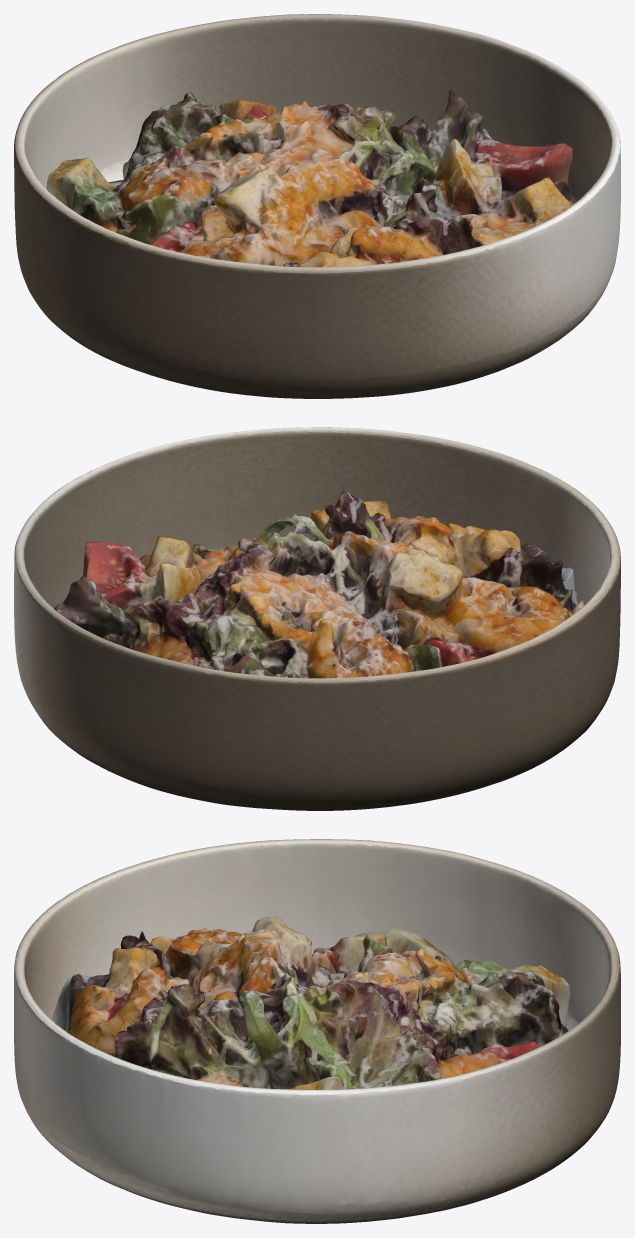
File: set.Caeser.shrimp.001.glb
The picture shows the model from 3 angles, top to bottom: view 1: azimuth 30°, elevation 25°; view 2: azimuth 150°, elevation 25°; view 3: azimuth 270°, elevation 25°; orthographic projection.
Visible parts, largest first — view 1: /Root/Scenes/Scene/Object_246/Object_250/Object_251/Submesh_, /Root/Scenes/Scene/Object_246/Object_247/Submesh_0; view 2: /Root/Scenes/Scene/Object_246/Object_250/Object_251/Submesh_, /Root/Scenes/Scene/Object_246/Object_247/Submesh_0; view 3: /Root/Scenes/Scene/Object_246/Object_250/Object_251/Submesh_, /Root/Scenes/Scene/Object_246/Object_247/Submesh_0.
Part boxes in pixels (x1,y1,x2,y2): /Root/Scenes/Scene/Object_246/Object_250/Object_251/Submesh_: (14,14,620,398); /Root/Scenes/Scene/Object_246/Object_247/Submesh_0: (46,90,572,267); /Root/Scenes/Scene/Object_246/Object_250/Object_251/Submesh_: (14,427,620,810); /Root/Scenes/Scene/Object_246/Object_247/Submesh_0: (54,491,584,678); /Root/Scenes/Scene/Object_246/Object_250/Object_251/Submesh_: (14,839,620,1223); /Root/Scenes/Scene/Object_246/Object_247/Submesh_0: (51,916,570,1089).
Bounding box in the file's own units: 0.2212 × 0.0626 × 0.2211.
2 materials, 2 textured.
